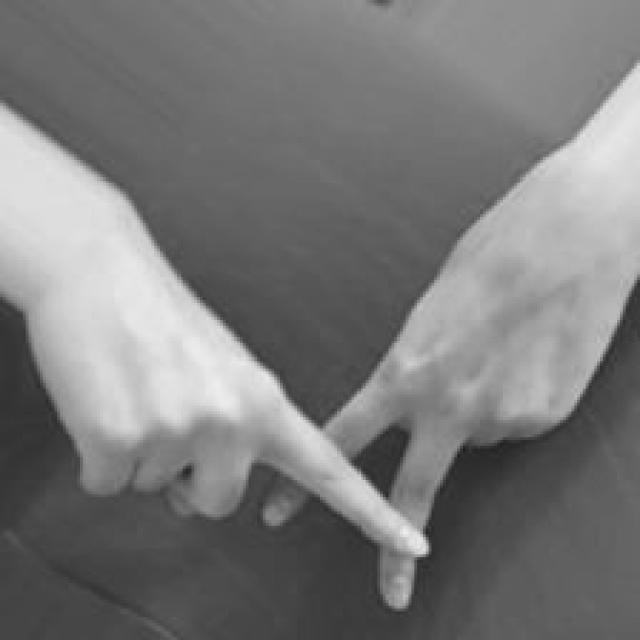A: (78, 246, 583, 611)
